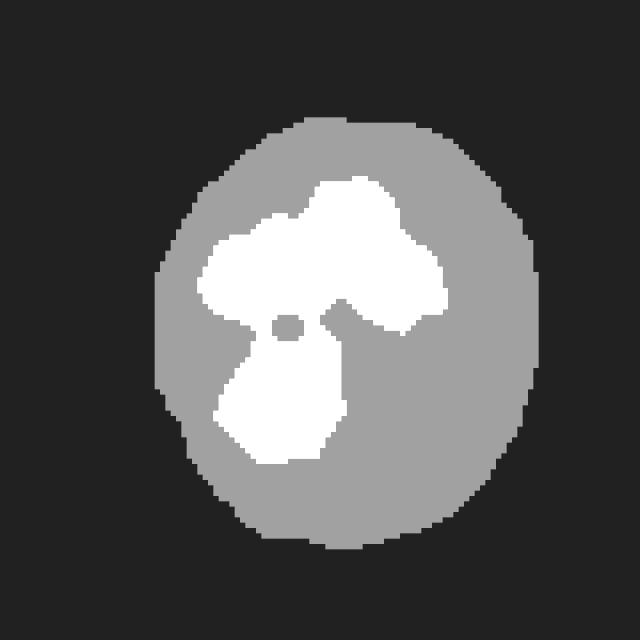WBC: (149, 101, 560, 571)
